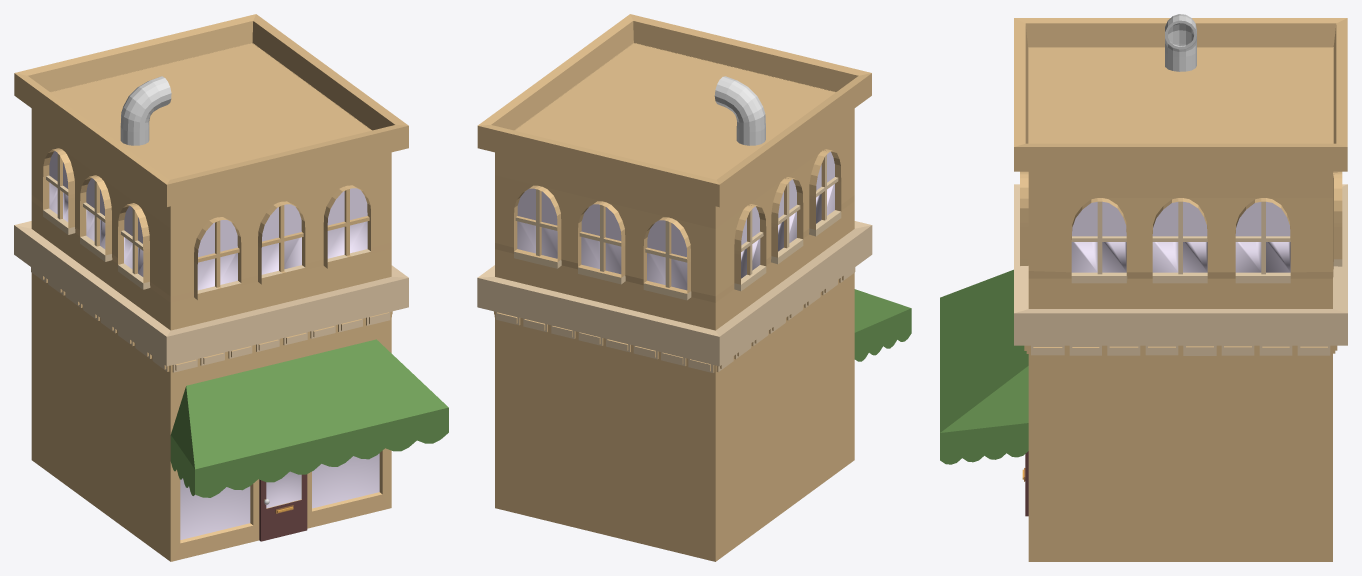
The model's file is Restaurant.fbx.
3 views of the same model, side by side, from view 1: azimuth 30°, elevation 25°; view 2: azimuth 150°, elevation 25°; view 3: azimuth 270°, elevation 25° (orthographic). The views are drawn at different scales.
Parts seen in each view (by area): view 1: Cube.011; view 2: Cube.011; view 3: Cube.011.
Boxes of the visible parts, x1,y1,x2,y2 form: Cube.011: [14, 14, 448, 561]; Cube.011: [477, 14, 911, 561]; Cube.011: [940, 14, 1347, 561].
Bounding box in the file's own units: 2520 × 3971 × 3208.
